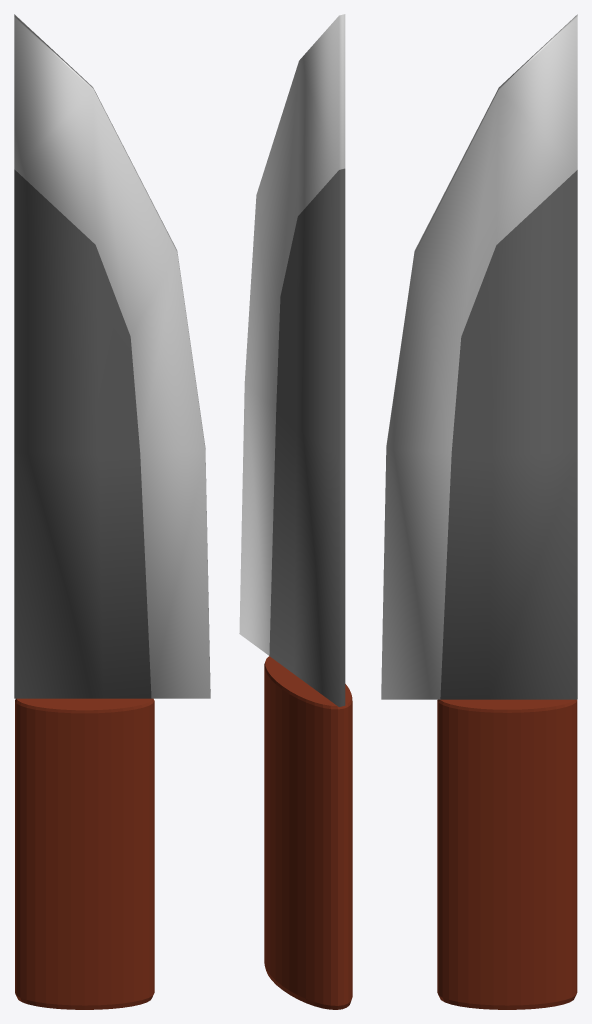
The model's file is Couteau2.fbx.
The picture shows the model from 3 angles, left to right: view 1: azimuth 90°, elevation 25°; view 2: azimuth 210°, elevation 25°; view 3: azimuth 270°, elevation 25°; orthographic projection.
Visible parts, largest first — view 1: Plane, Cylinder; view 2: Plane, Cylinder; view 3: Plane, Cylinder.
Boxes of the visible parts, left/top/right/bottom form: Plane: left=14, top=14, right=210, bottom=698; Cylinder: left=15, top=698, right=154, bottom=1009; Plane: left=239, top=14, right=345, bottom=706; Cylinder: left=264, top=656, right=352, bottom=1009; Plane: left=381, top=14, right=577, bottom=699; Cylinder: left=437, top=699, right=577, bottom=1009.
Size of the model in its own units: 32.95 by 594 by 108.
